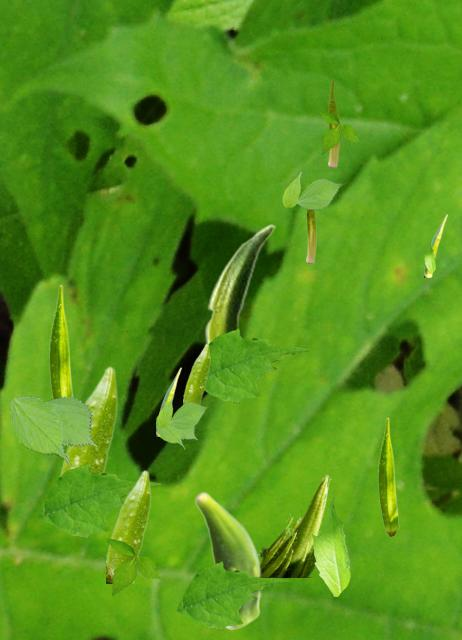okra: (194, 491, 261, 629), (204, 224, 274, 342), (259, 474, 330, 576), (58, 365, 117, 476), (106, 469, 150, 582), (49, 284, 73, 398), (378, 417, 398, 536), (156, 367, 180, 435), (183, 343, 209, 403), (424, 214, 446, 276), (328, 79, 338, 166), (306, 181, 315, 262)
